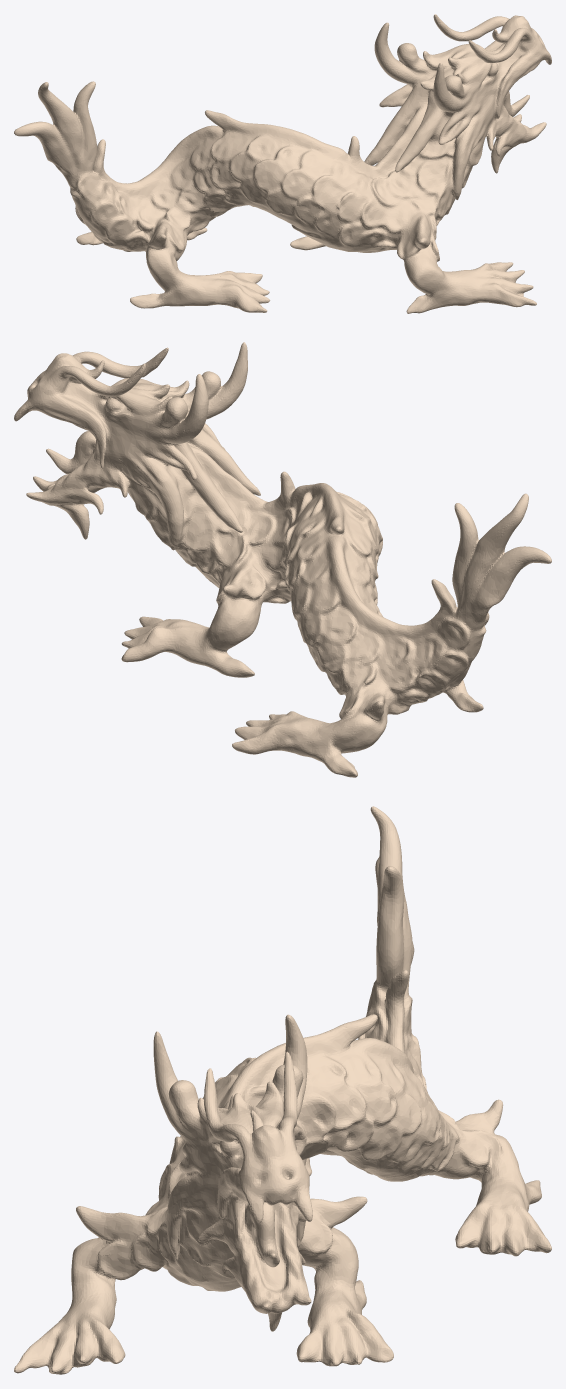
Rendered from dragon_finer.glb.
3 views of the same model, one above another, from view 1: azimuth 30°, elevation 25°; view 2: azimuth 150°, elevation 25°; view 3: azimuth 270°, elevation 25° (orthographic). The views are drawn at different scales.
Parts seen in each view (by area): view 1: world; view 2: world; view 3: world.
Part boxes in pixels (x1,y1,x2,y2): world: [14, 14, 551, 313]; world: [14, 342, 551, 777]; world: [14, 806, 551, 1374].
Size of the model in its own units: 0.9991 by 0.4474 by 0.664.
